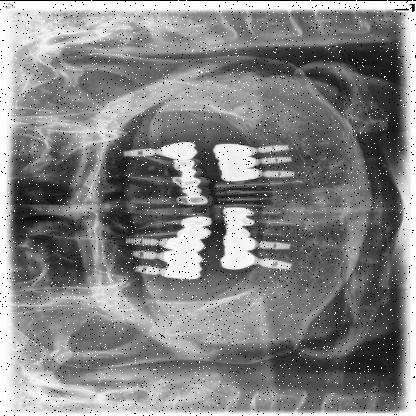Bicon: (255, 256, 293, 272), (118, 144, 156, 158), (129, 262, 162, 278), (260, 167, 297, 180), (256, 142, 291, 154), (123, 235, 159, 246), (260, 238, 292, 250), (260, 153, 292, 165), (126, 248, 160, 259)
